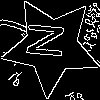N: (26, 21, 74, 61)
